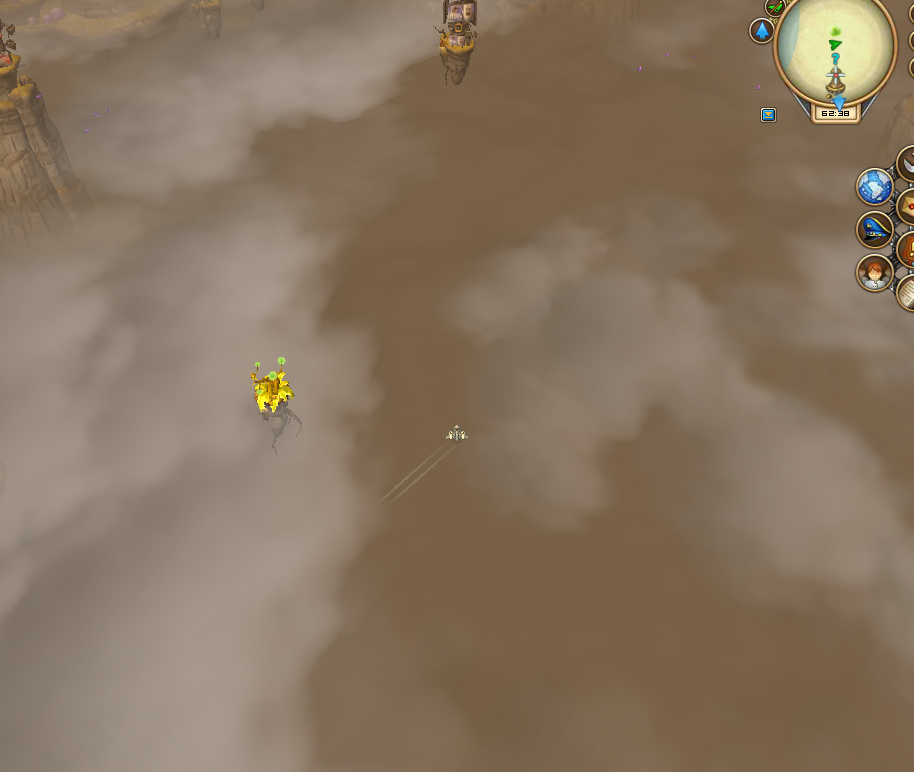dandelion-full: (241, 350, 300, 431)
